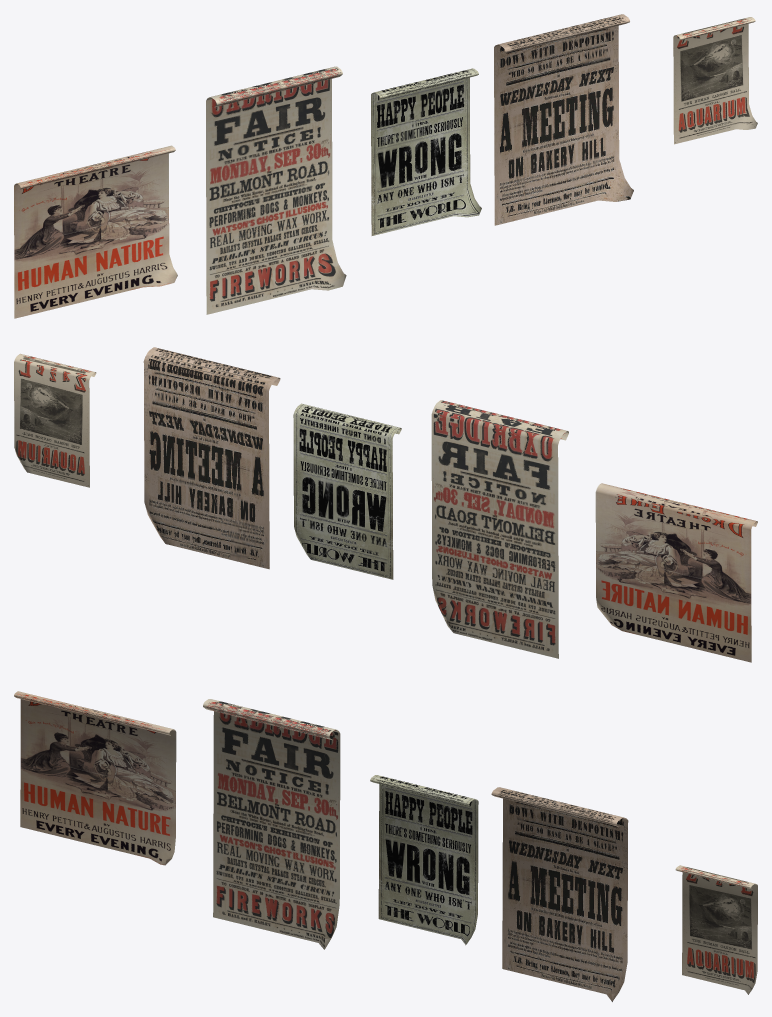
The model's file is posters.FBX.
The picture shows the model from 3 angles, top to bottom: view 1: azimuth 30°, elevation 25°; view 2: azimuth 150°, elevation 25°; view 3: azimuth 330°, elevation 25°; orthographic projection.
Parts seen in each view (by area): view 1: Plane002, Plane004, Plane001, Plane003, Plane005; view 2: Plane002, Plane004, Plane001, Plane003, Plane005; view 3: Plane002, Plane004, Plane001, Plane003, Plane005.
Boxes of the visible parts, x1,y1,x2,y2 form: Plane002: (206,66,346,314); Plane004: (494,14,633,225); Plane001: (14,145,177,318); Plane003: (371,68,481,235); Plane005: (673,17,757,144); Plane002: (431,400,568,658); Plane004: (143,347,280,569); Plane001: (595,483,757,662); Plane003: (293,403,401,579); Plane005: (14,353,96,487); Plane002: (203,699,340,949); Plane004: (491,787,628,1001); Plane001: (14,691,176,865); Plane003: (370,775,478,945); Plane005: (675,865,757,994).
Size of the model in its own units: 667 by 191 by 24.84.
